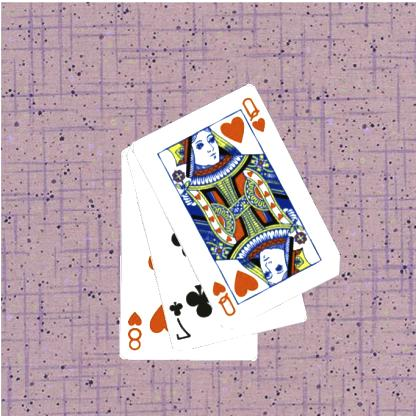7C: (168, 299, 194, 342)
8H: (126, 309, 144, 352)
QH: (238, 94, 268, 144), (211, 279, 239, 318)
